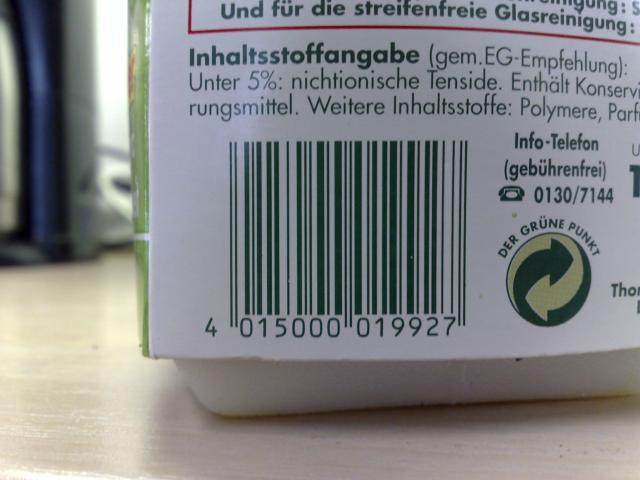Barcode: (199, 136, 478, 346)
